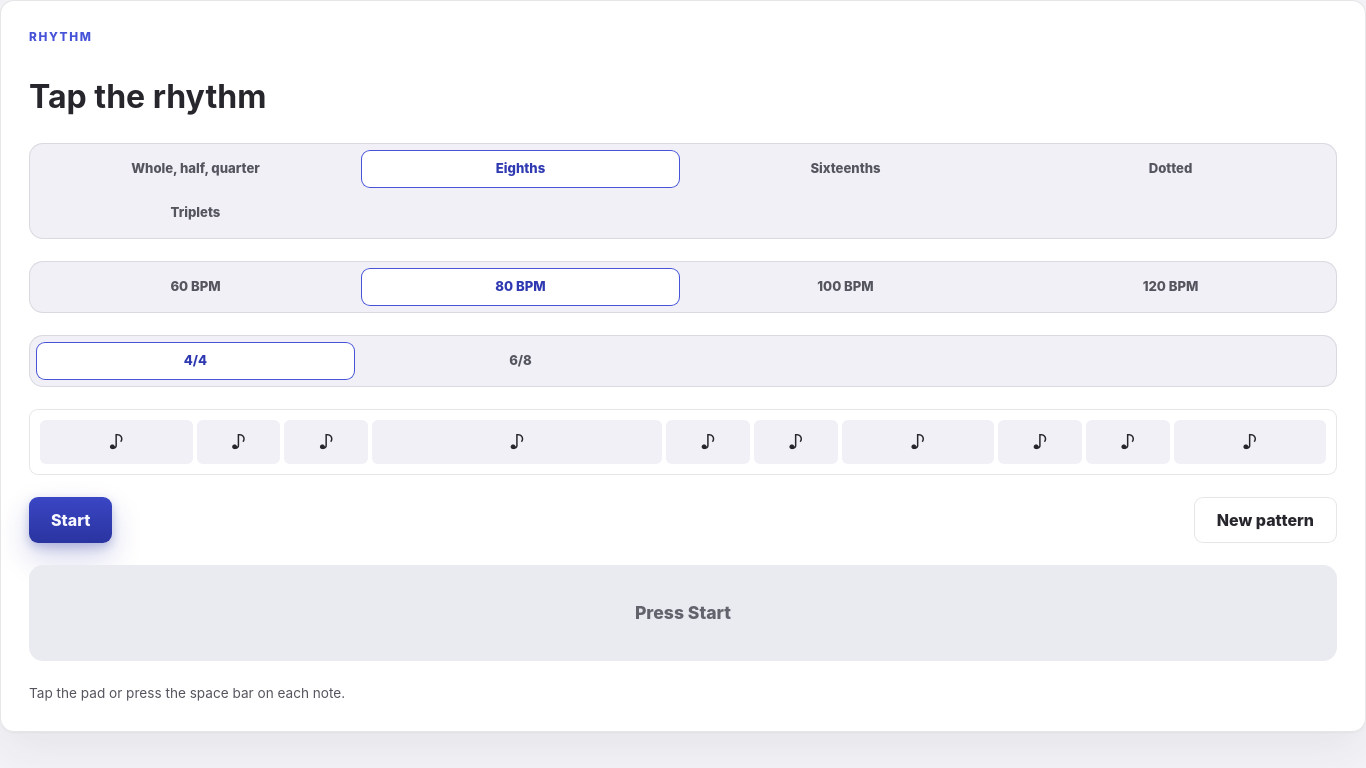
Test: RhythmWorkspace › shows a playback cursor while the pattern is running
Click the button "Start".
click(71, 520)  # box left=29, top=497, right=112, bottom=543
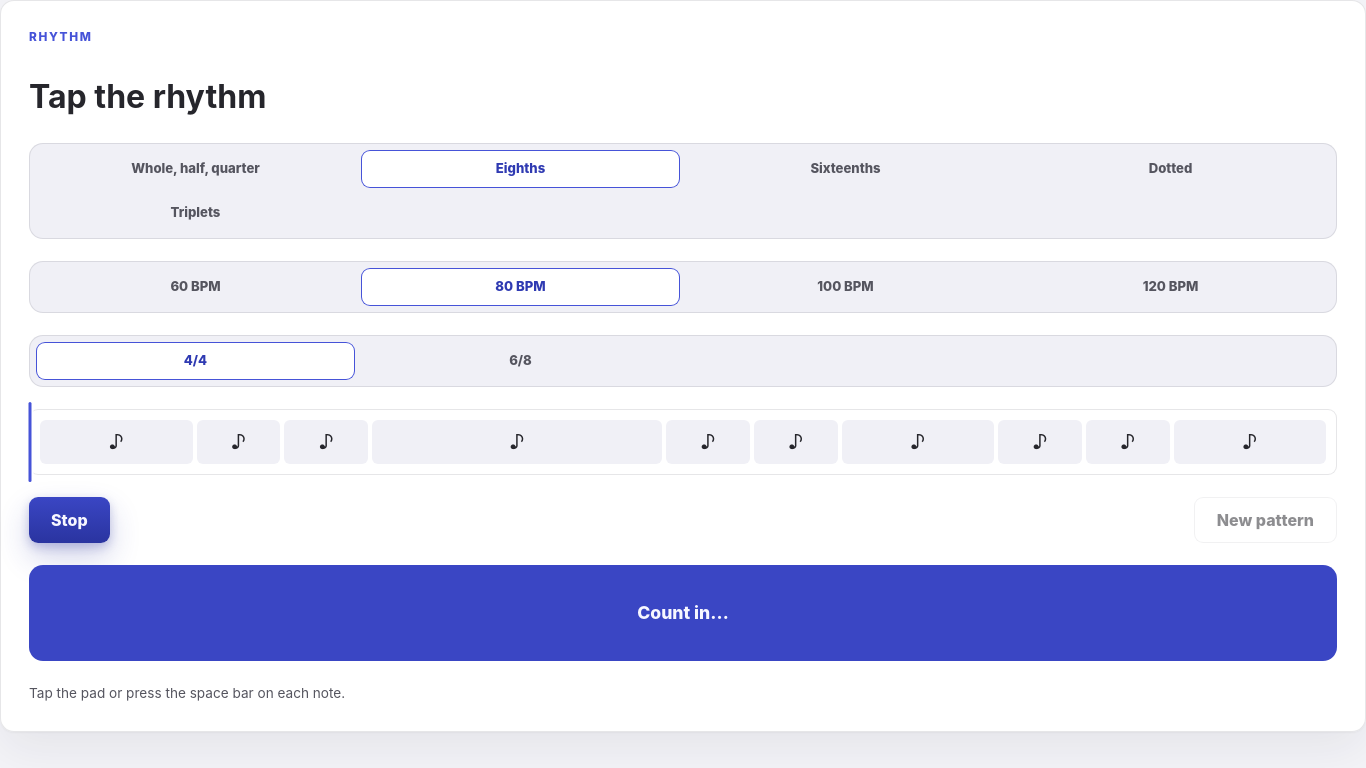
Expected: the list item named "Playback position" is shown, left=28, top=402, right=32, bottom=482
